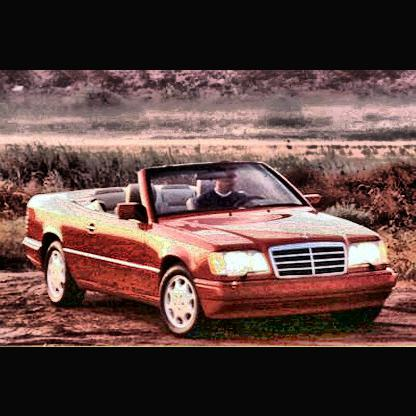Mercedes-Benz 300-Class Convertible 1993: (19, 156, 403, 341)
